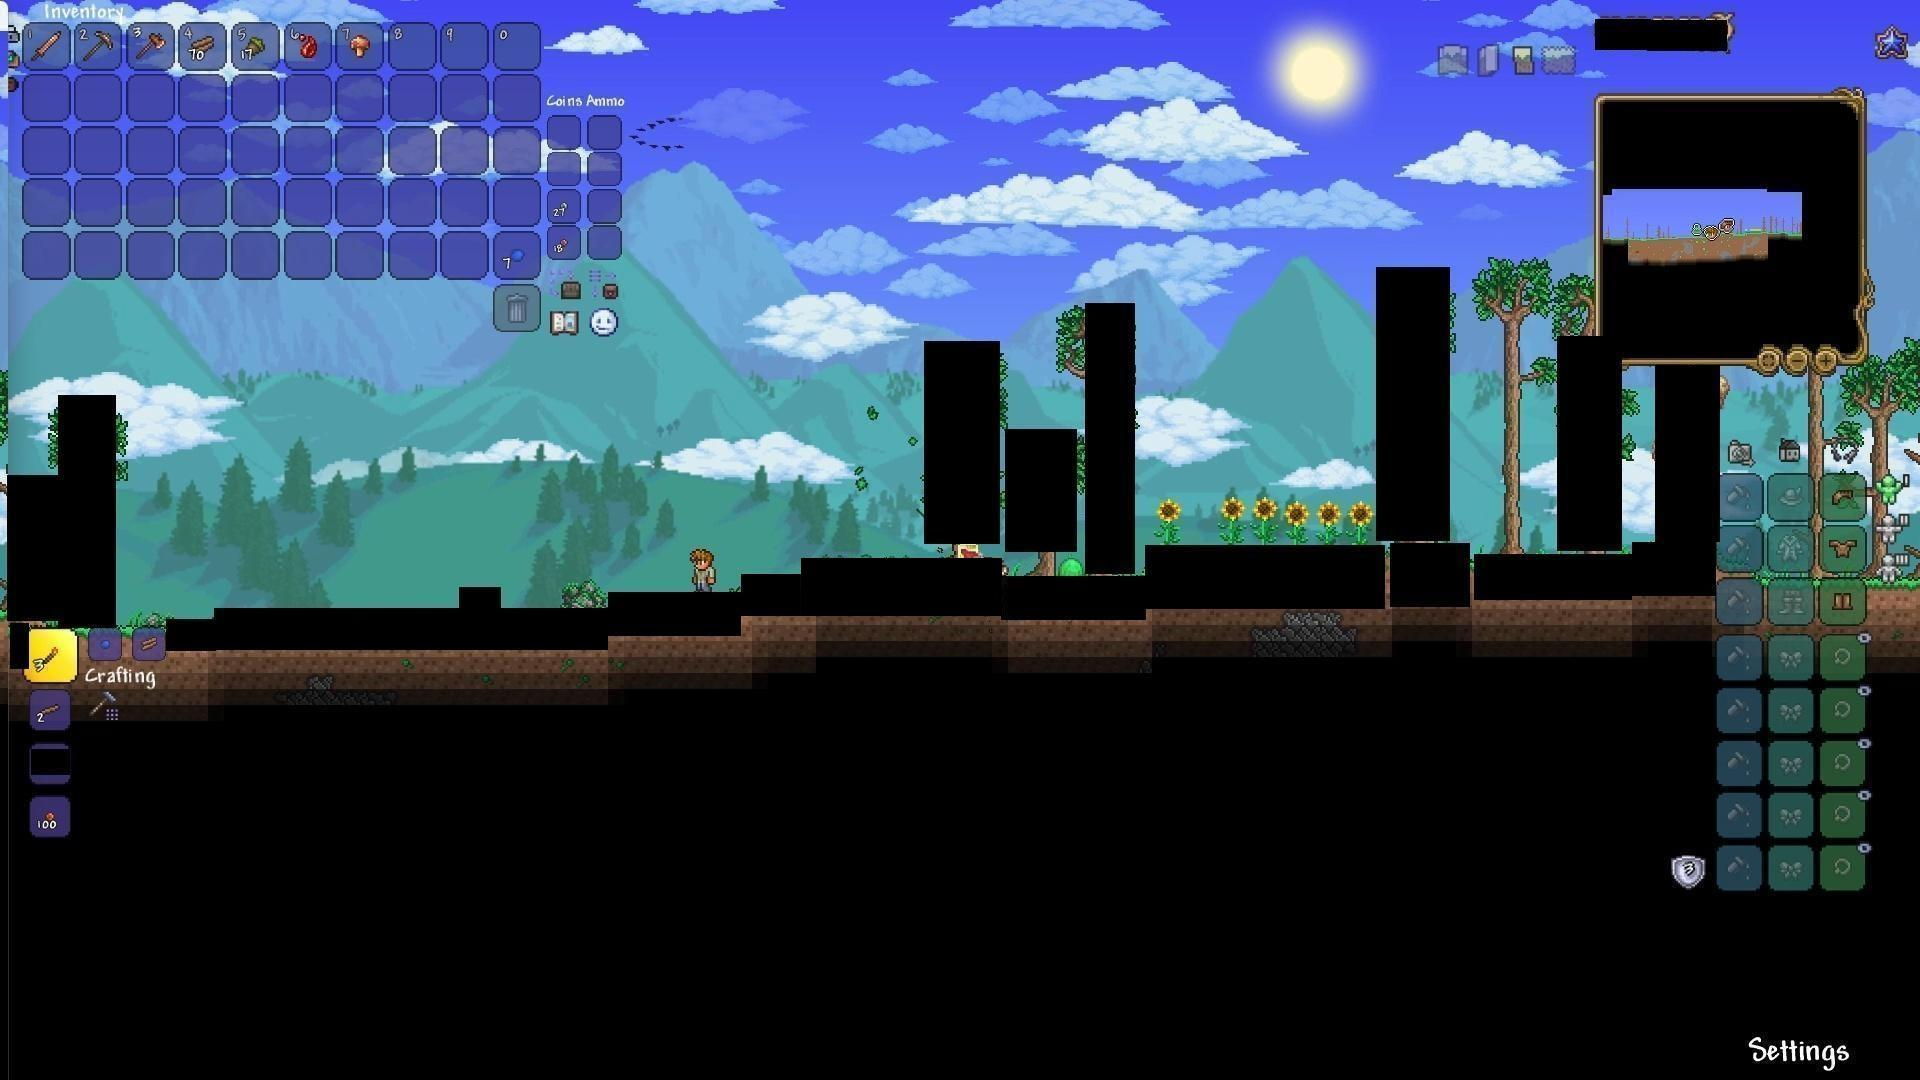breastplate: (1829, 539, 1855, 559)
helmet: (1829, 485, 1855, 509)
legs: (1832, 589, 1855, 616)
slime: (1054, 556, 1088, 582)
tree: (1478, 255, 1542, 547), (1862, 356, 1912, 584)
wood: (187, 32, 218, 61), (135, 629, 165, 655)
